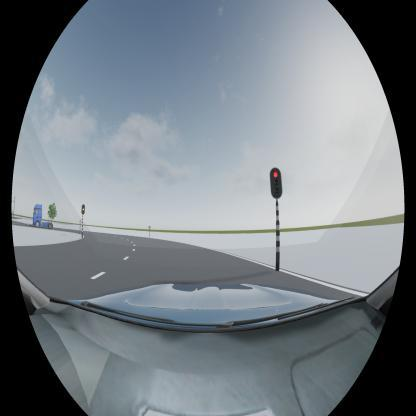Red Light: (271, 166, 282, 200)
